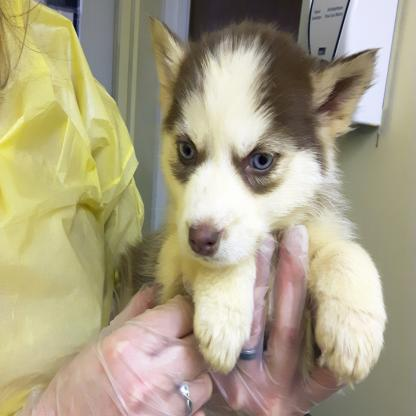husky: (147, 13, 386, 383)
